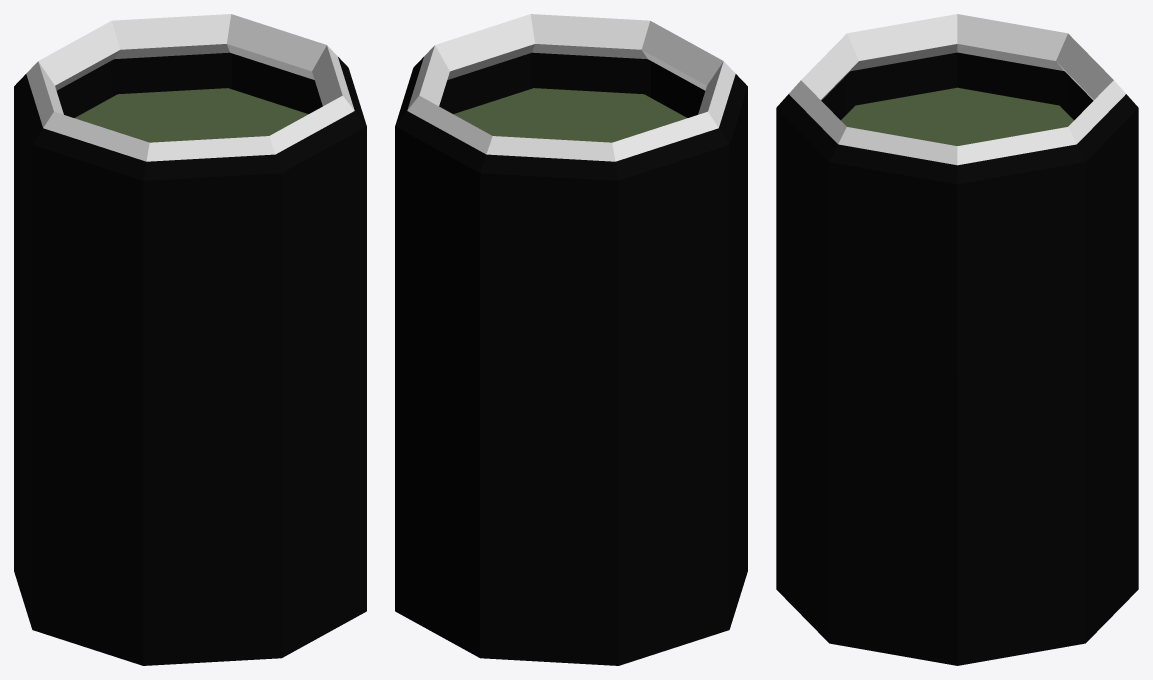
The model's file is pandemonium_kitchen_trash.fbx.
3 renders of one model, left to right at view 1: azimuth 30°, elevation 25°; view 2: azimuth 150°, elevation 25°; view 3: azimuth 270°, elevation 25°, orthographic.
Visible parts, largest first — view 1: Cylinder.113; view 2: Cylinder.113; view 3: Cylinder.113.
Part boxes in pixels (<box>): Cylinder.113: <box>14,14,366,665</box>; Cylinder.113: <box>395,14,747,665</box>; Cylinder.113: <box>776,14,1138,665</box>.
Size of the model in its own units: 131 by 204 by 131.
